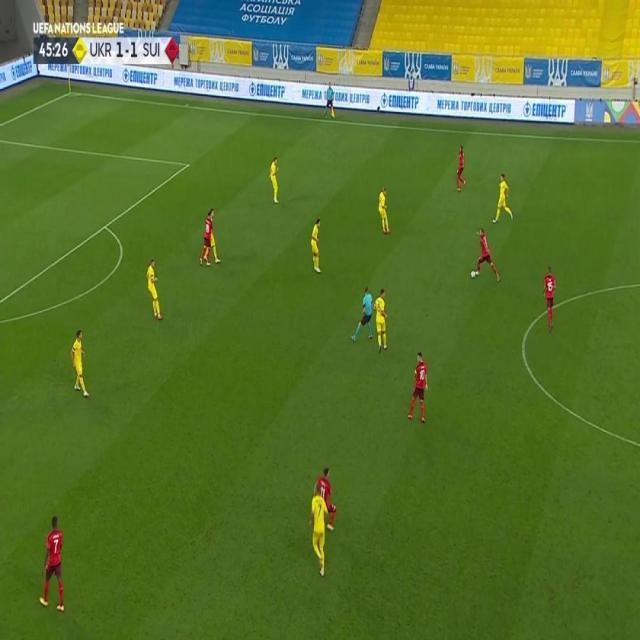ball: (470, 269, 476, 280)
player: (39, 513, 67, 616), (309, 478, 331, 579), (408, 350, 430, 424), (473, 227, 501, 282), (317, 465, 337, 536), (69, 329, 89, 398), (198, 207, 220, 269), (144, 257, 163, 321), (492, 173, 515, 225), (542, 265, 558, 335), (374, 288, 390, 354), (308, 217, 324, 274), (377, 186, 393, 235), (267, 156, 281, 204), (455, 143, 468, 193)
referee: (351, 286, 374, 343), (324, 80, 337, 121)
